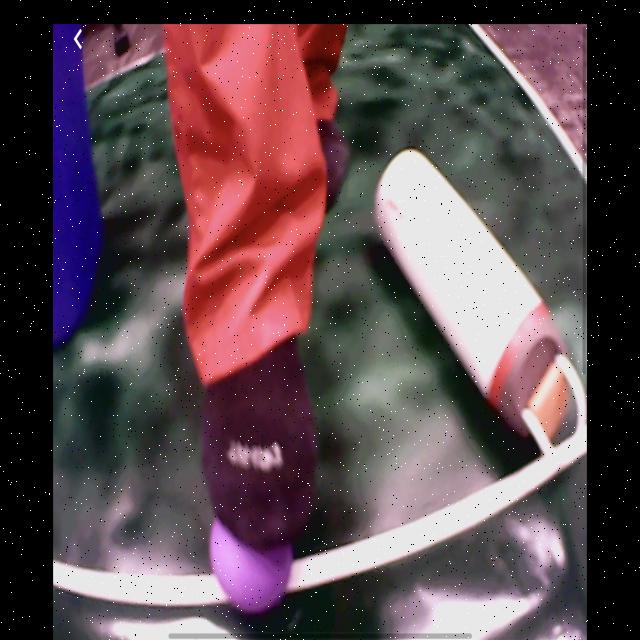ball: (209, 516, 293, 612)
